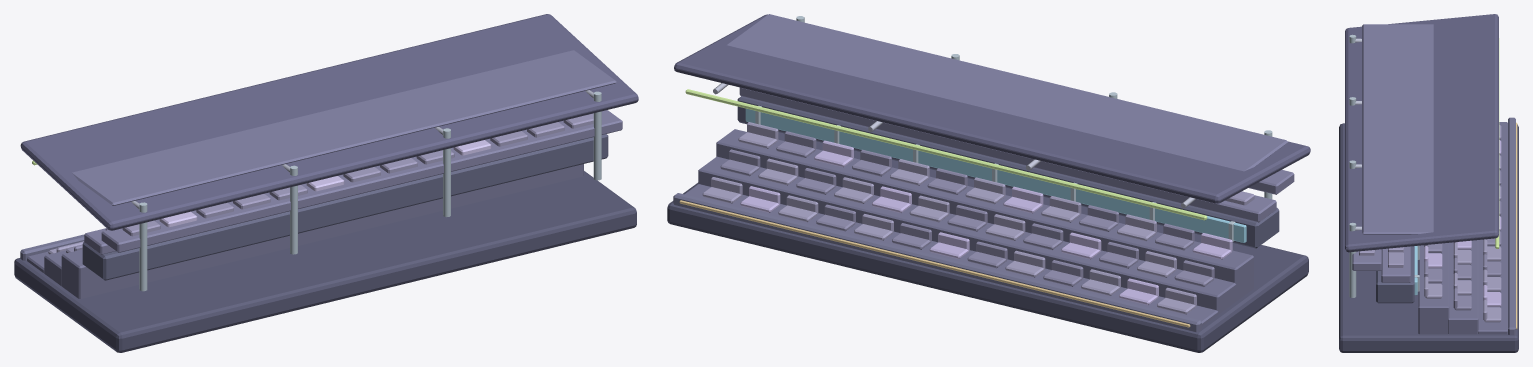
File: night_stand.fbx
3 renders of one model, left to right at view 1: azimuth 30°, elevation 25°; view 2: azimuth 150°, elevation 25°; view 3: azimuth 270°, elevation 25°, orthographic. The views are drawn at different scales.
Visible parts, largest first — view 1: night_stand; view 2: night_stand; view 3: night_stand.
Part boxes in pixels (box(x1,y1,x2,y2)): night_stand: box(14, 14, 638, 352); night_stand: box(667, 14, 1310, 352); night_stand: box(1339, 14, 1518, 352).
Size of the model in its own units: 20.8 by 5.5 by 7.2.
